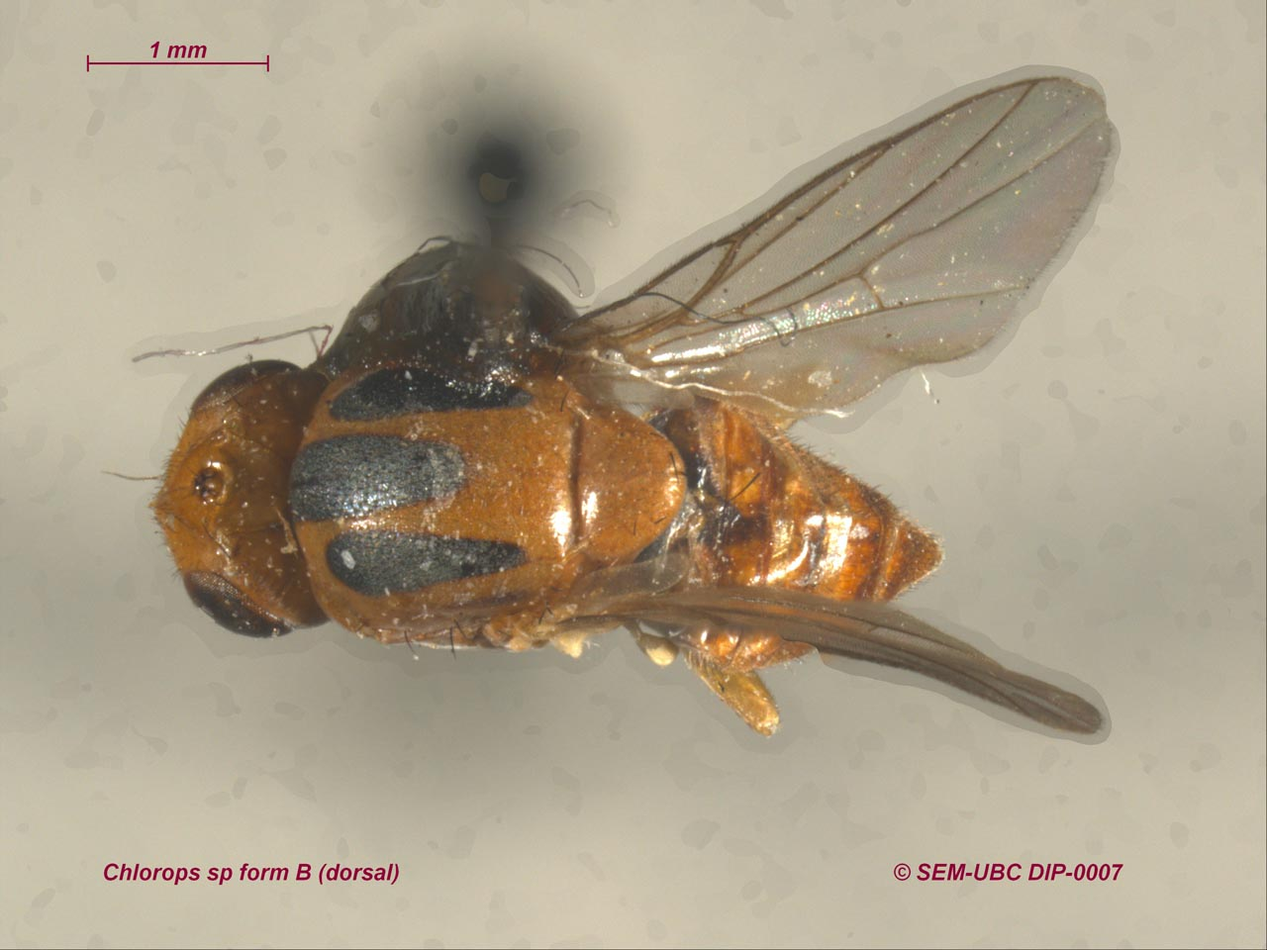Chloropidae: (97, 47, 1140, 739)
